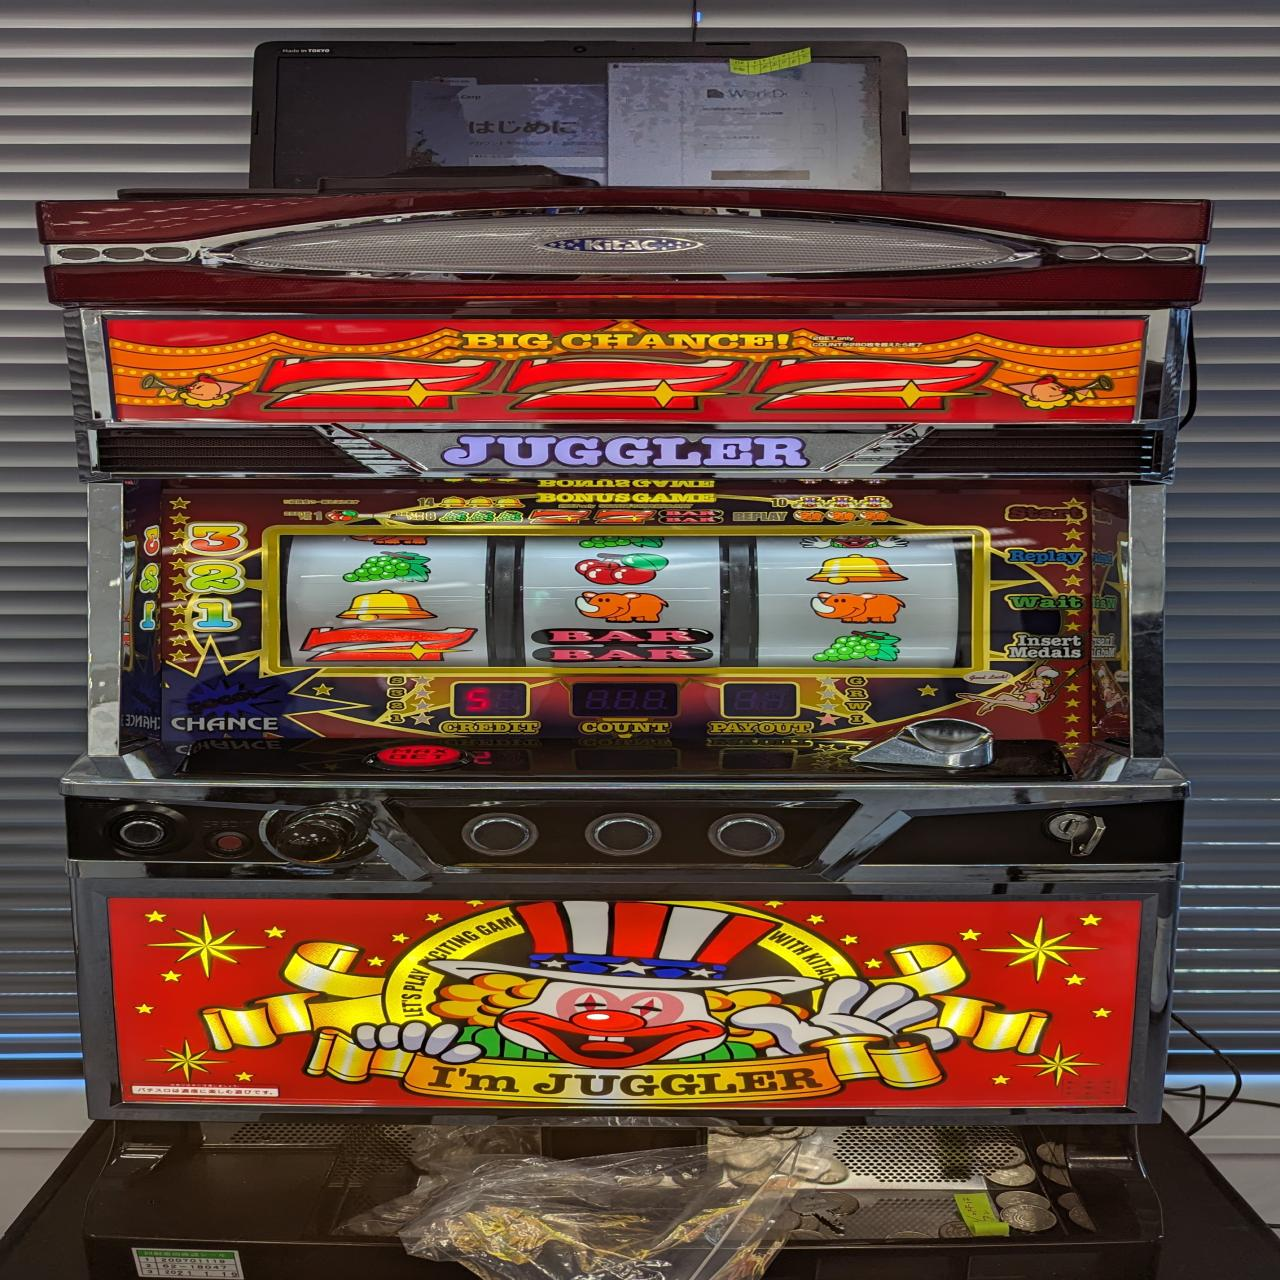7: (300, 626, 475, 665)
Display: (278, 526, 985, 673)
bar: (530, 627, 715, 662)
bell: (332, 588, 440, 622), (805, 553, 910, 586)
cherry: (571, 551, 669, 584)
grape: (339, 550, 433, 584), (812, 631, 904, 662)
rhino: (806, 591, 910, 625), (570, 590, 669, 624)
